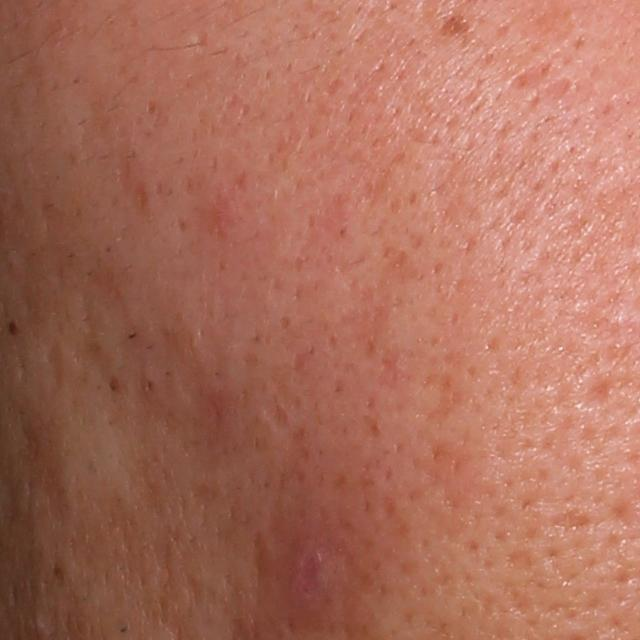atrophic_scar: (11, 418, 73, 516), (423, 368, 466, 431), (578, 372, 627, 408), (549, 511, 599, 540), (191, 31, 214, 55)
comedo: (141, 375, 159, 396)
